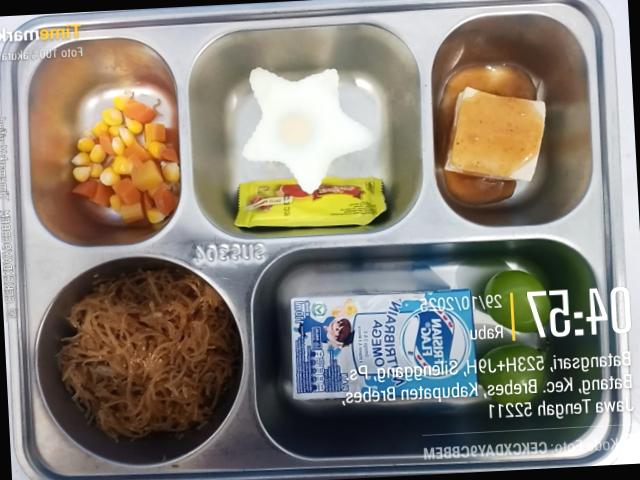buah: (485, 270, 551, 332), (480, 343, 541, 404)
mie: (59, 269, 237, 438)
sayur: (51, 94, 182, 226)
susu: (290, 289, 478, 403)
tahu: (450, 88, 546, 178)
telur: (243, 67, 373, 193)
